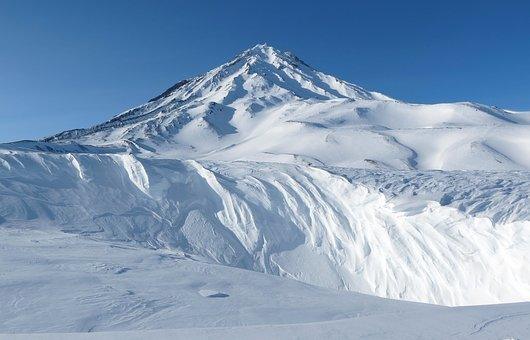mountain: (28, 42, 530, 337)
